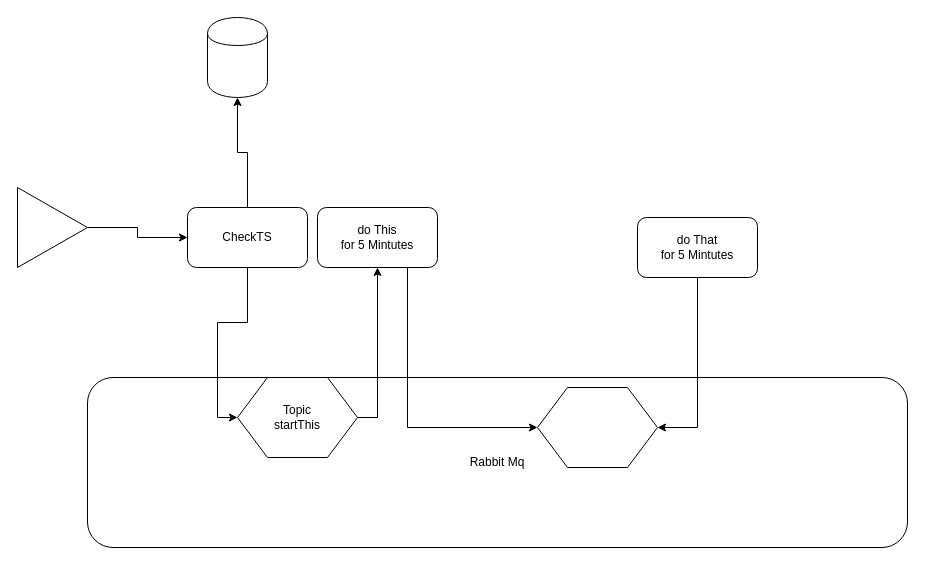
Some shapes in this 925 by 565 pixel diagram are drawn without their labels. Here are the shapes that lost their labels. From the top down, the box of each, then its label:
(16, 186, 88, 268): Ping Source
(536, 386, 658, 468): Topic startThat
